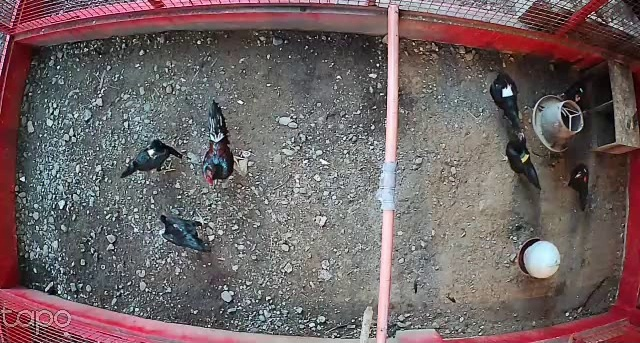Chicken: (120, 132, 186, 186), (499, 131, 543, 192), (158, 209, 213, 257), (488, 65, 527, 132), (559, 158, 592, 211), (557, 73, 593, 110)
Rooster: (200, 99, 245, 192)
Saddle_Color_Red: (584, 176, 586, 183)
Saddle_Color_White: (501, 83, 514, 98)
Saddle_Color_Yellow: (146, 145, 160, 161)
Saddle_Color_YellowGreen: (518, 150, 530, 163)
